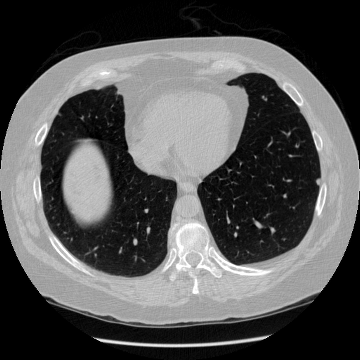nodule: (315, 178, 321, 184)
